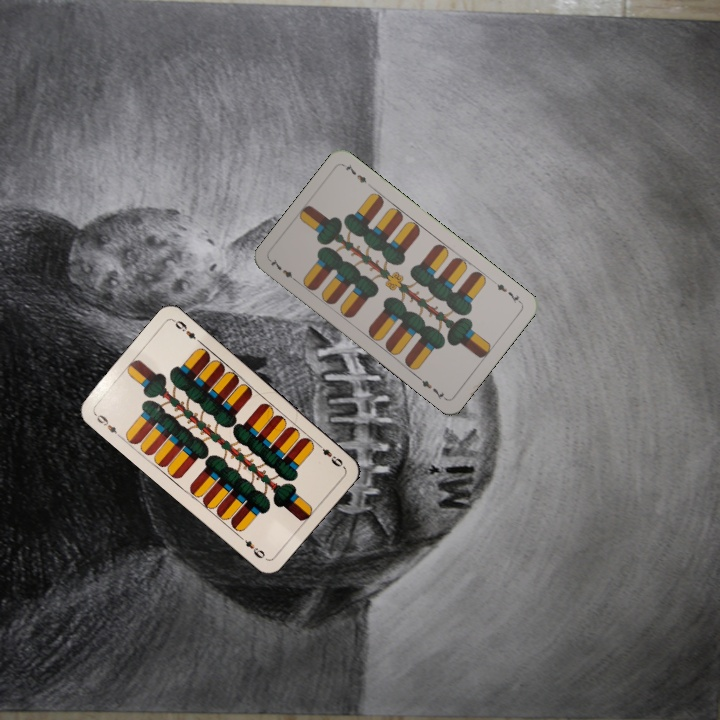E7: (267, 255, 301, 286), (489, 277, 524, 306)
E9: (90, 409, 124, 440), (313, 439, 346, 470)
